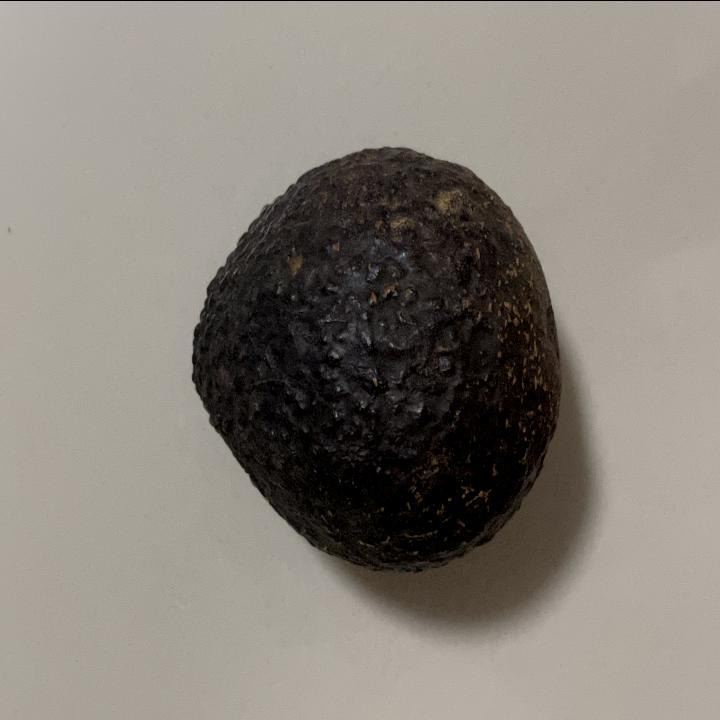Level3: (186, 132, 566, 580)
